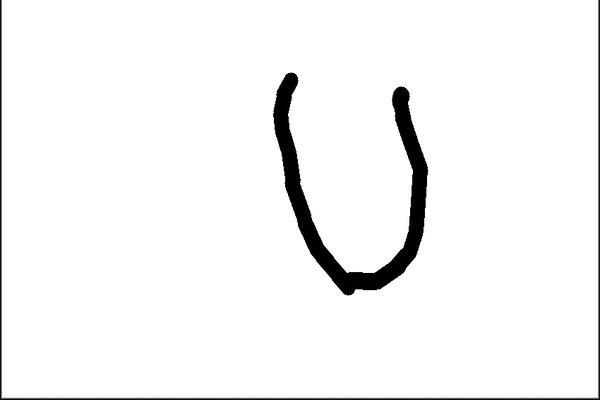U: (261, 67, 434, 298)
